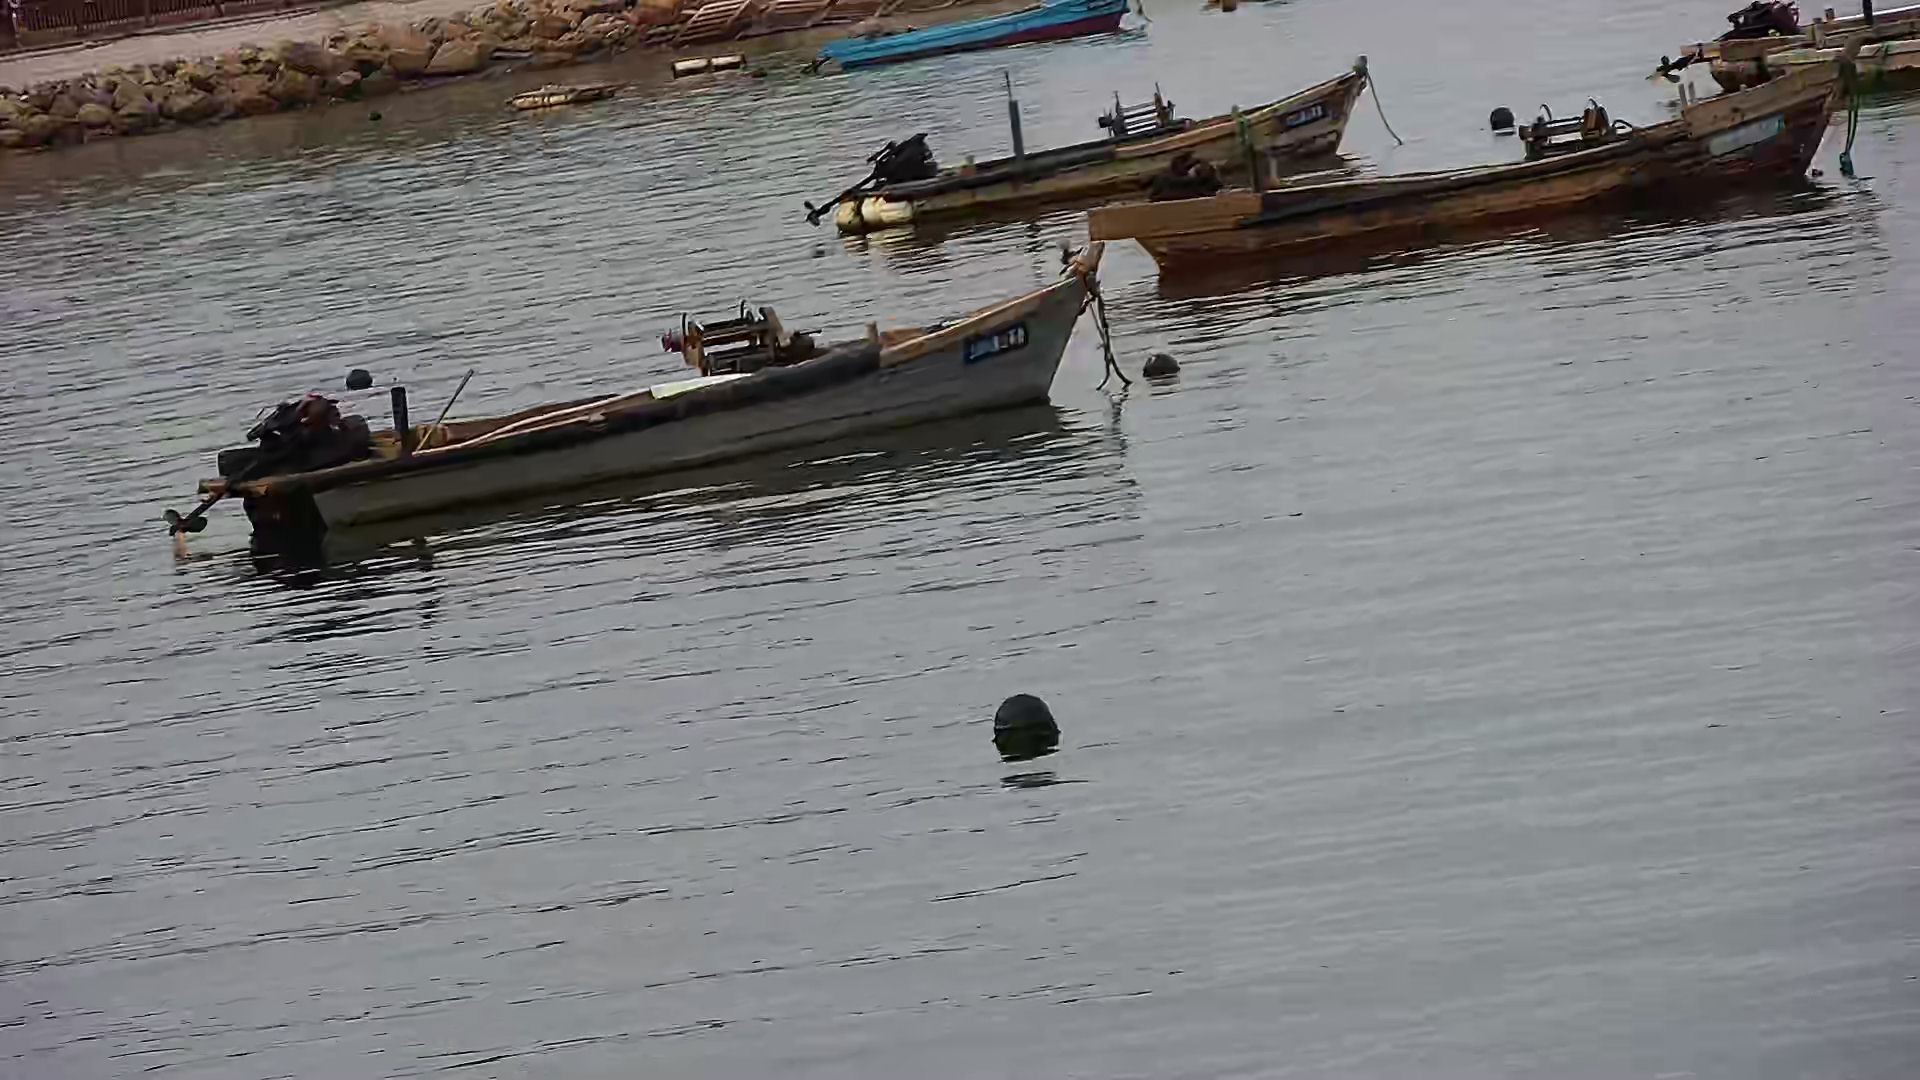ball: (984, 684, 1065, 764), (1137, 345, 1187, 396)
boat: (183, 241, 1102, 549), (1091, 61, 1840, 284), (812, 55, 1352, 236), (825, 1, 1138, 61)
rubbish: (506, 74, 626, 121), (669, 50, 744, 78)
